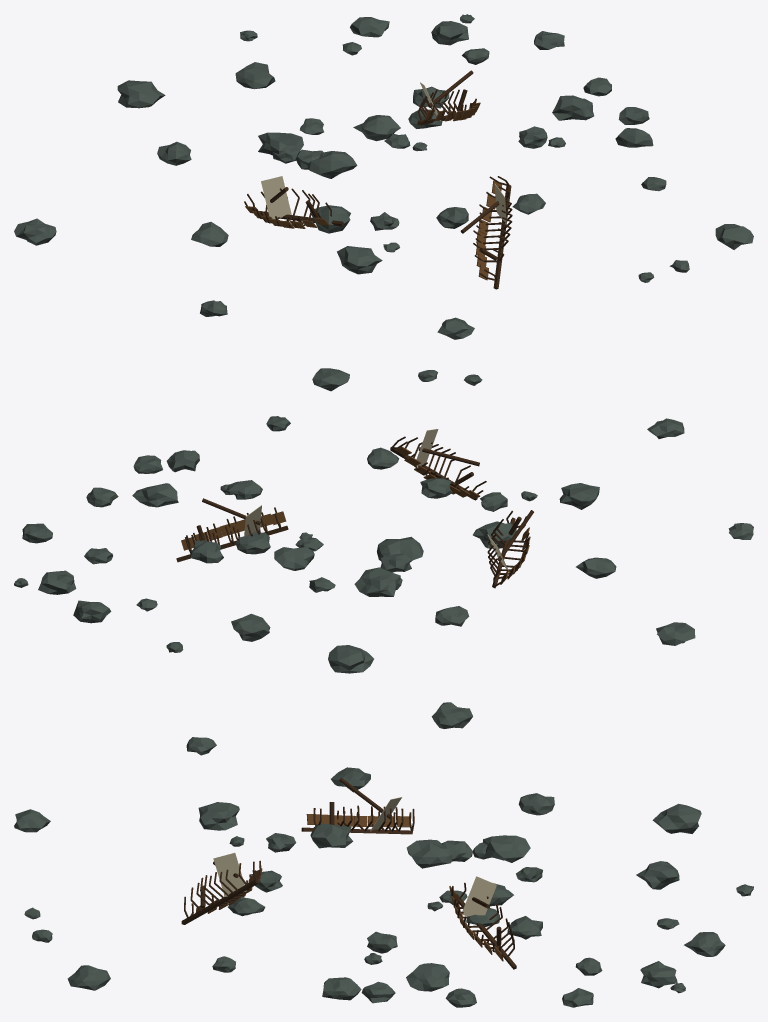
Rendered from arch_wreck_reef.glb.
The picture shows the model from 3 angles, top to bottom: view 1: azimuth 30°, elevation 25°; view 2: azimuth 150°, elevation 25°; view 3: azimuth 270°, elevation 25°; orthographic projection. The views are drawn at different scales.
Visible parts, largest first — view 1: geometry_0; view 2: geometry_0; view 3: geometry_0.
Boxes of the visible parts, bbox=[...] form: geometry_0: bbox=[14, 14, 753, 339]; geometry_0: bbox=[14, 368, 753, 673]; geometry_0: bbox=[14, 702, 753, 1007].
Bounding box in the file's own units: 158 × 20.38 × 162.
